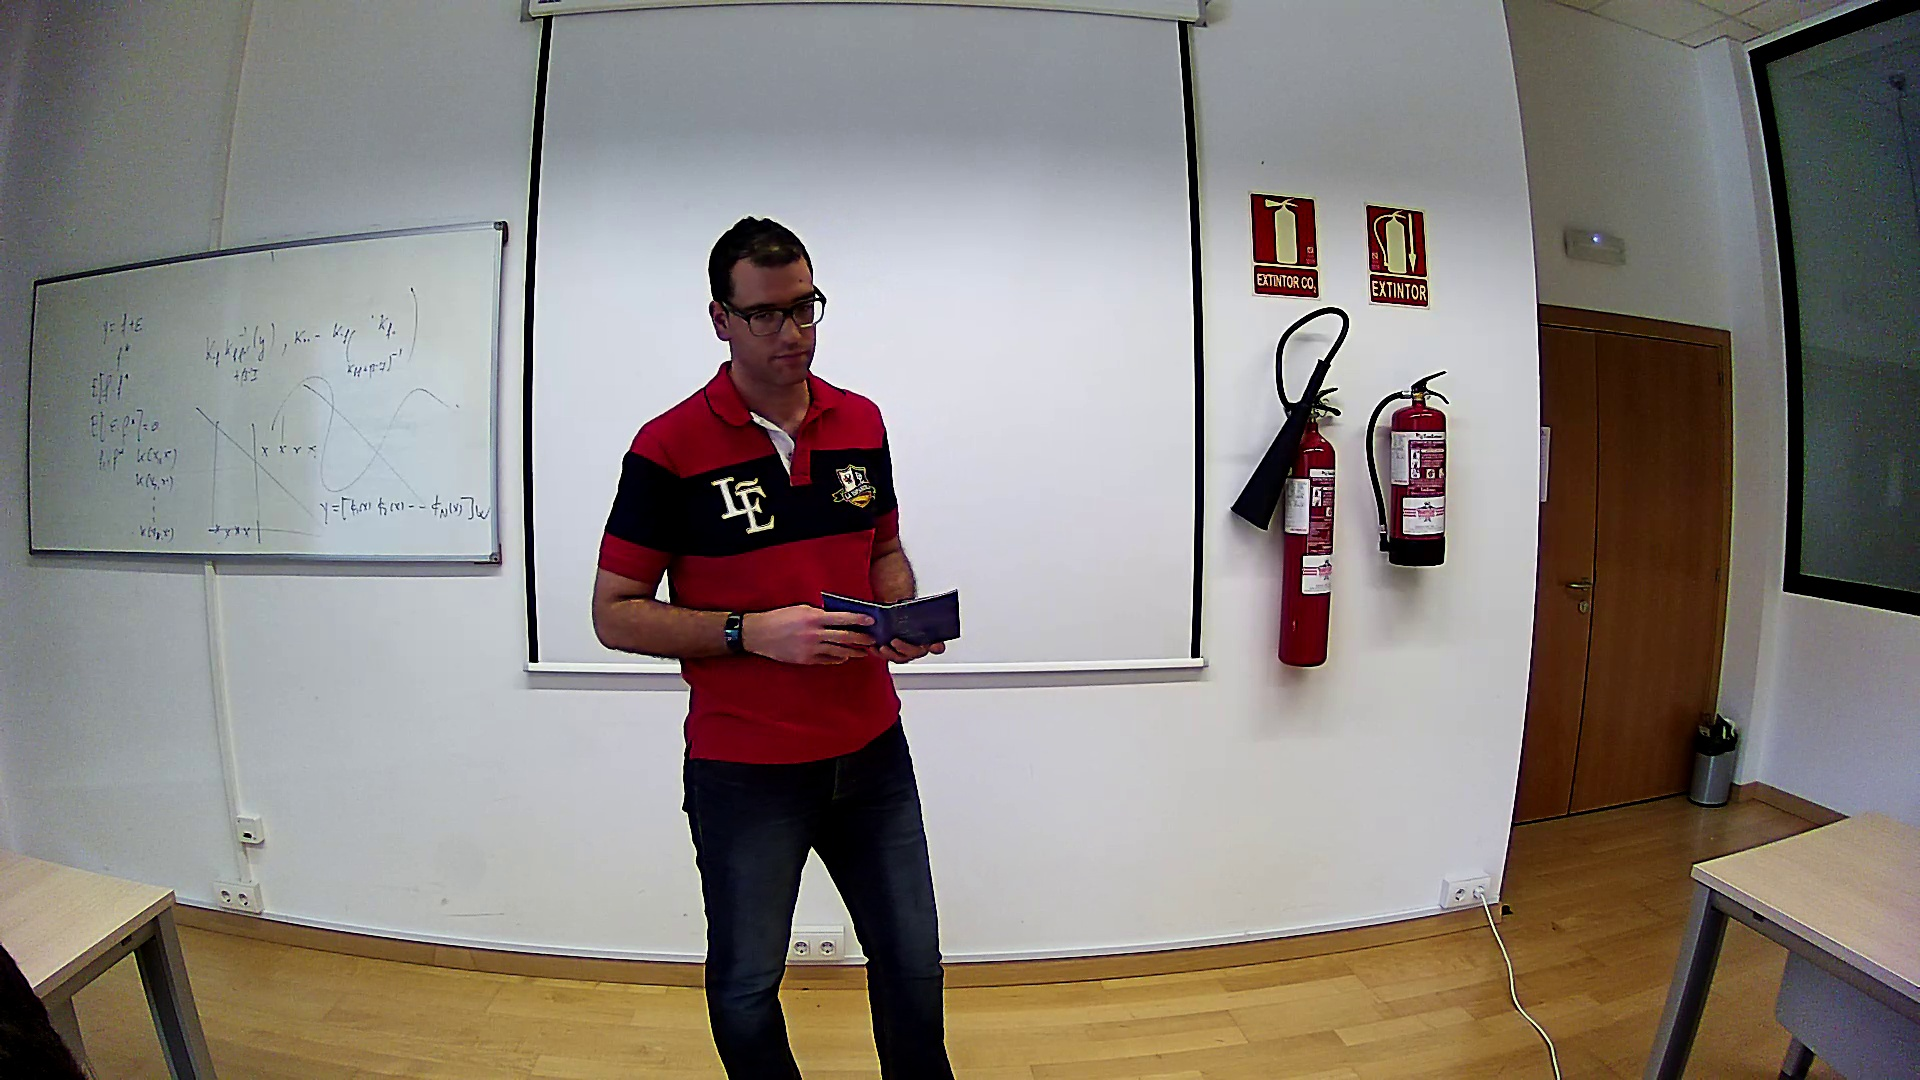monedero: (820, 587, 963, 654)
